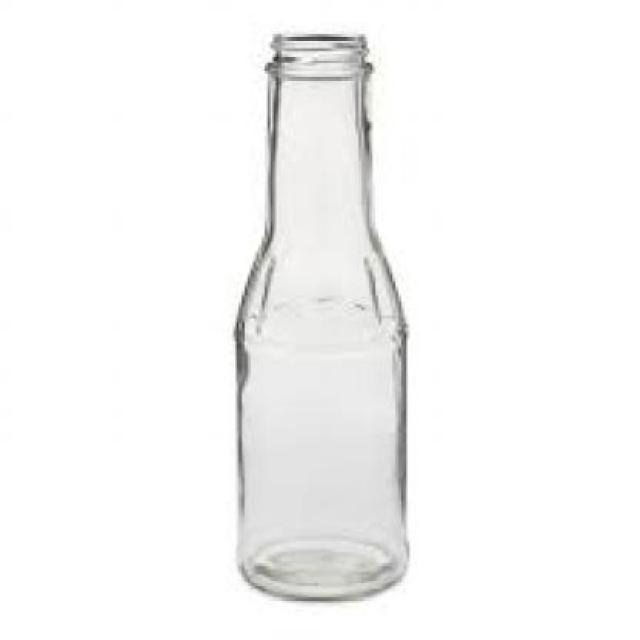kaca: (234, 34, 408, 597)
